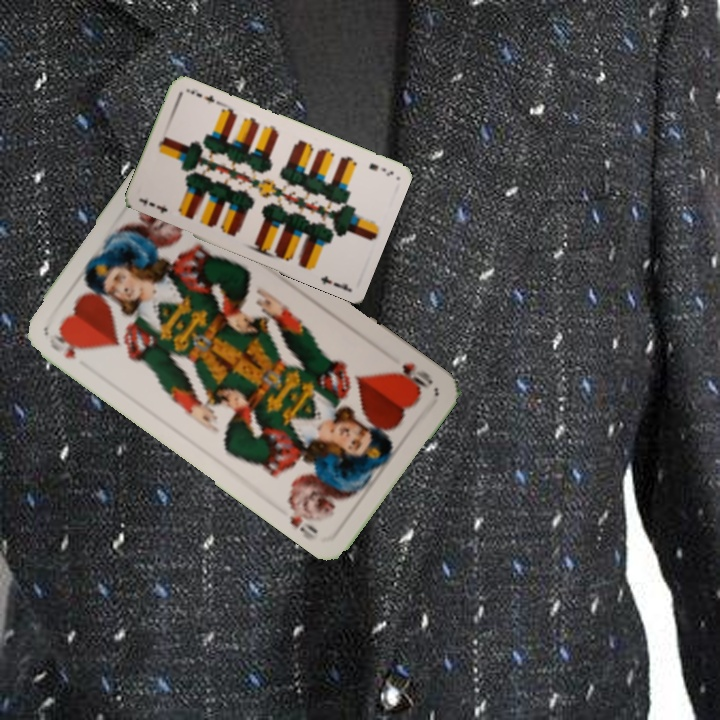E7: (365, 159, 396, 179), (144, 198, 170, 216)
HO: (388, 358, 436, 395), (45, 329, 87, 362)
